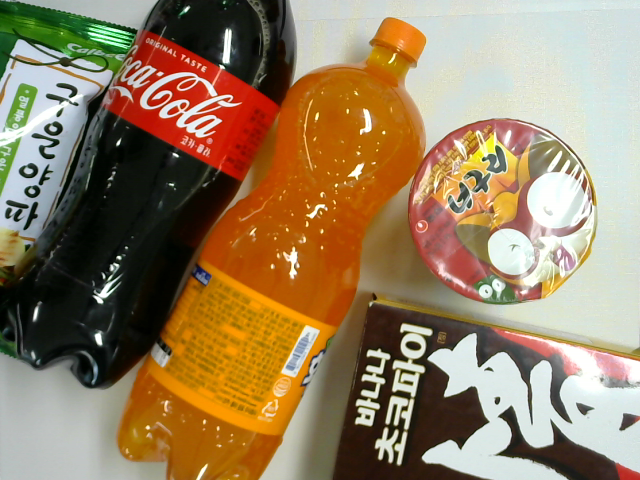Choco_Pie_Banana: (333, 291, 640, 479)
Coca_Cola_1.5L: (1, 1, 301, 393)
Grilled_Onions: (1, 2, 144, 289)
Hwanta_Orange_1.5L: (114, 12, 429, 480)
Raccoon: (403, 118, 599, 309)
